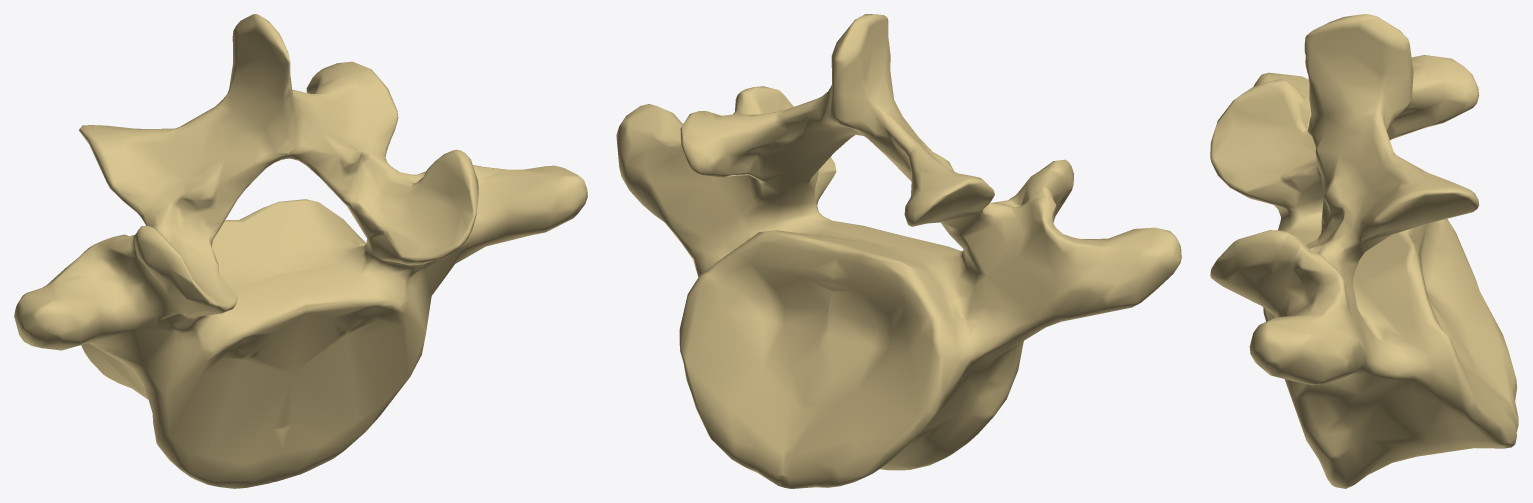
The picture shows the model from 3 angles, left to right: view 1: azimuth 30°, elevation 25°; view 2: azimuth 150°, elevation 25°; view 3: azimuth 270°, elevation 25°; orthographic projection.
Parts seen in each view (by area): view 1: 第五腰椎; view 2: 第五腰椎; view 3: 第五腰椎.
Part boxes in pixels (bbox=[...]): 第五腰椎: bbox=[14, 14, 587, 488]; 第五腰椎: bbox=[616, 14, 1181, 488]; 第五腰椎: bbox=[1210, 14, 1518, 488].
Size of the model in its own units: 0.156 by 0.1219 by 0.0743.
